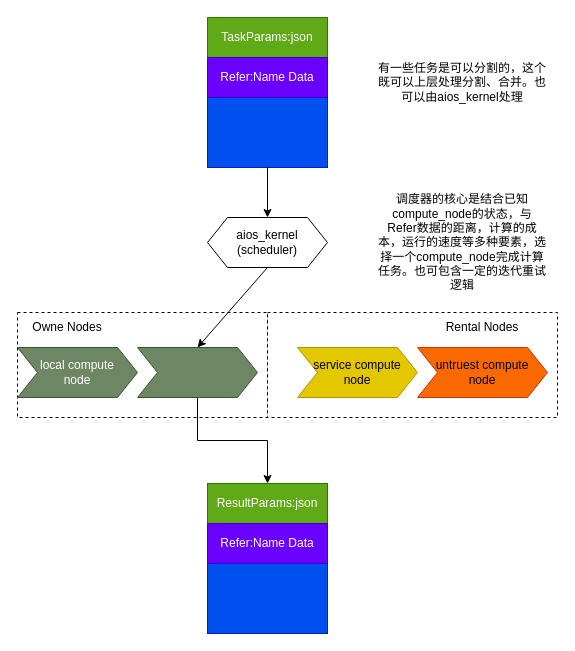
This 575x651 diagram has some shape labels left out. The shapes that lost their labels are listed below. From the top down, each one's centre as x and y in pixels, then its label:
At pixel 267 132: "padding input:buffers".
At pixel 197 372: "my device compute node".
At pixel 267 598: "padding result:buffers".
